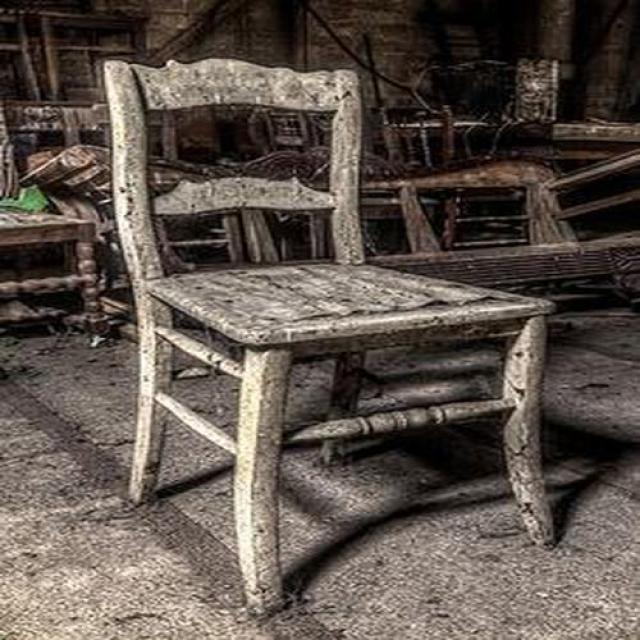chair: (102, 61, 559, 621)
